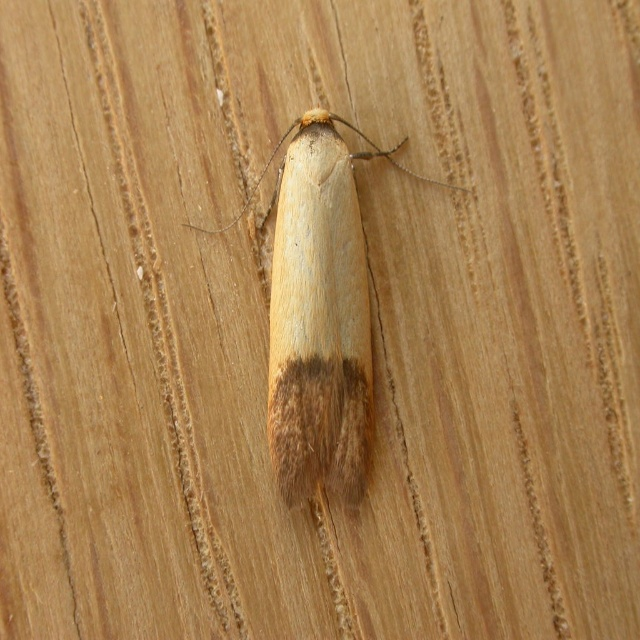Moths and butterflies: (179, 105, 477, 508)
